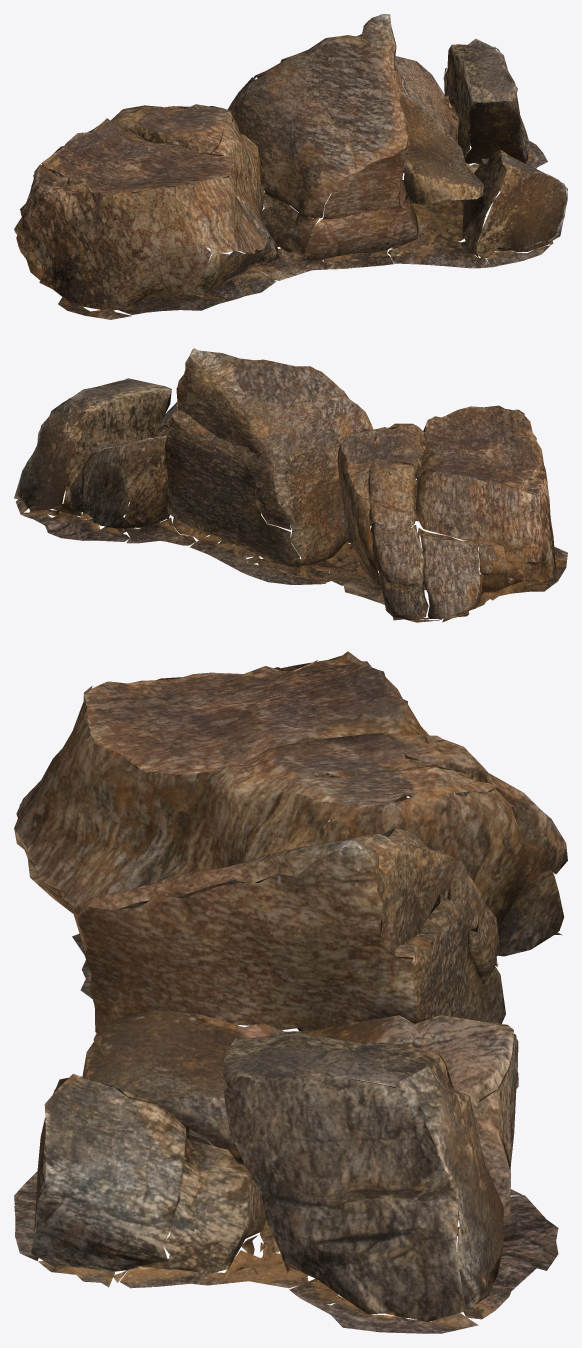
Rendered from namaqualand_boulder_02.glb.
3 views of the same model, one above another, from view 1: azimuth 30°, elevation 25°; view 2: azimuth 150°, elevation 25°; view 3: azimuth 270°, elevation 25° (orthographic). The views are drawn at different scales.
Parts seen in each view (by area): view 1: namaqualand_boulder_02_lod0; view 2: namaqualand_boulder_02_lod0; view 3: namaqualand_boulder_02_lod0.
Part boxes in pixels (<box>): namaqualand_boulder_02_lod0: <box>14,14,567,319</box>; namaqualand_boulder_02_lod0: <box>14,348,567,622</box>; namaqualand_boulder_02_lod0: <box>14,651,567,1333</box>.
Size of what is drawn, in the model's own units: 2.52 by 0.8766 by 1.23.
Materials: 1 (1 with a texture image).
